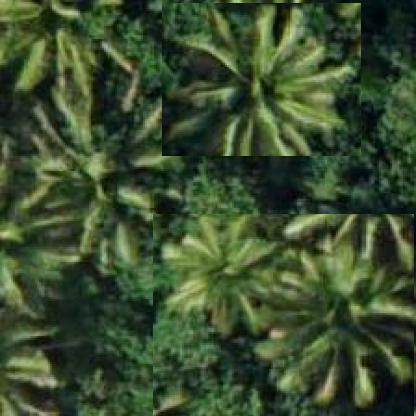coconut tree: (0, 1, 193, 415), (153, 213, 415, 416), (162, 2, 362, 156)
